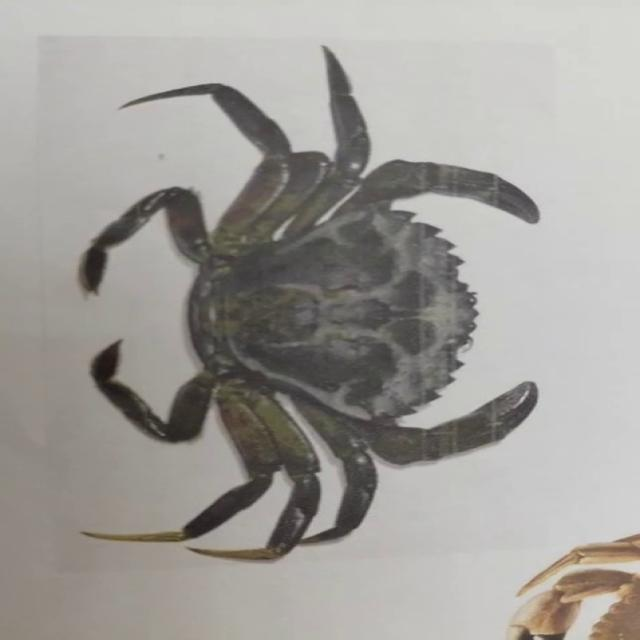egc: (82, 47, 538, 559)
